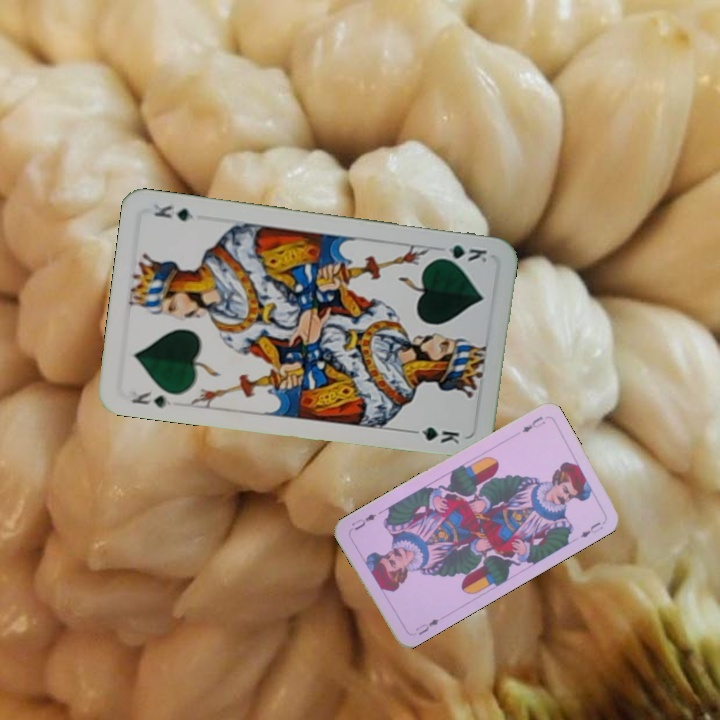EU: (411, 615, 442, 638), (518, 412, 548, 435)
GK: (432, 241, 490, 267), (127, 386, 173, 410)
